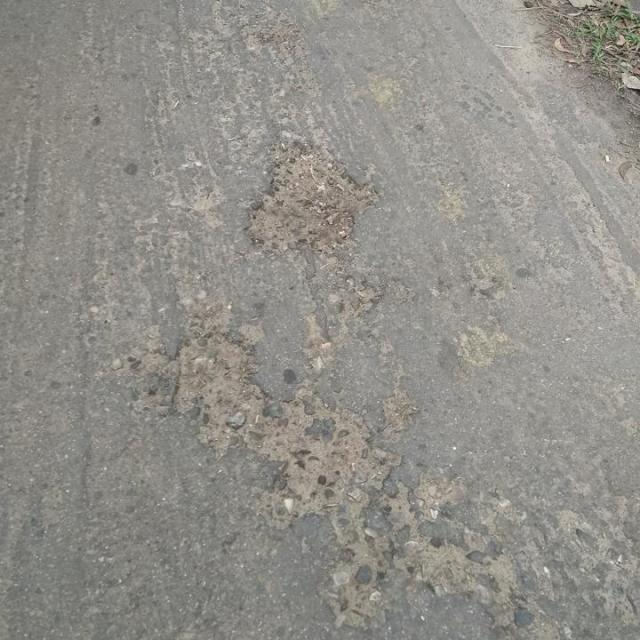pothole: (268, 388, 400, 518), (244, 140, 386, 260), (167, 326, 272, 454)
